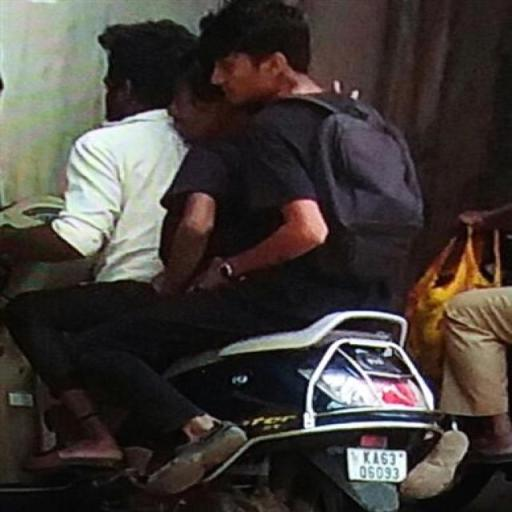tripple riding: (0, 0, 441, 314)
